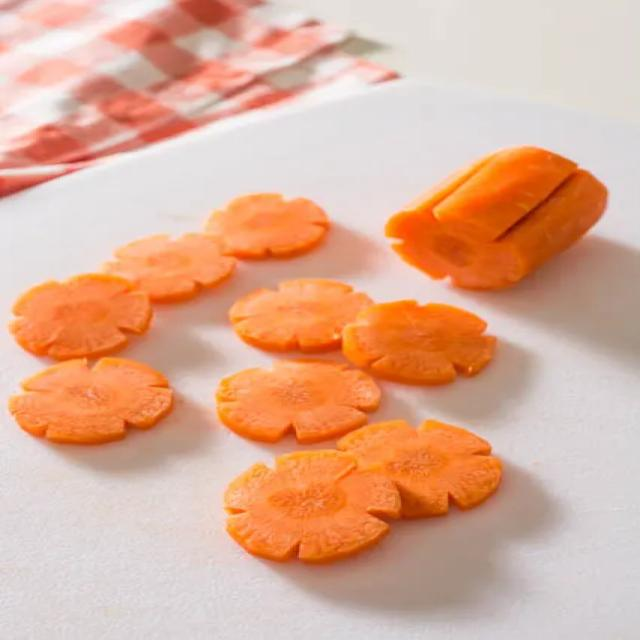ca rot: (9, 193, 328, 444), (216, 279, 500, 560), (385, 147, 607, 288)
